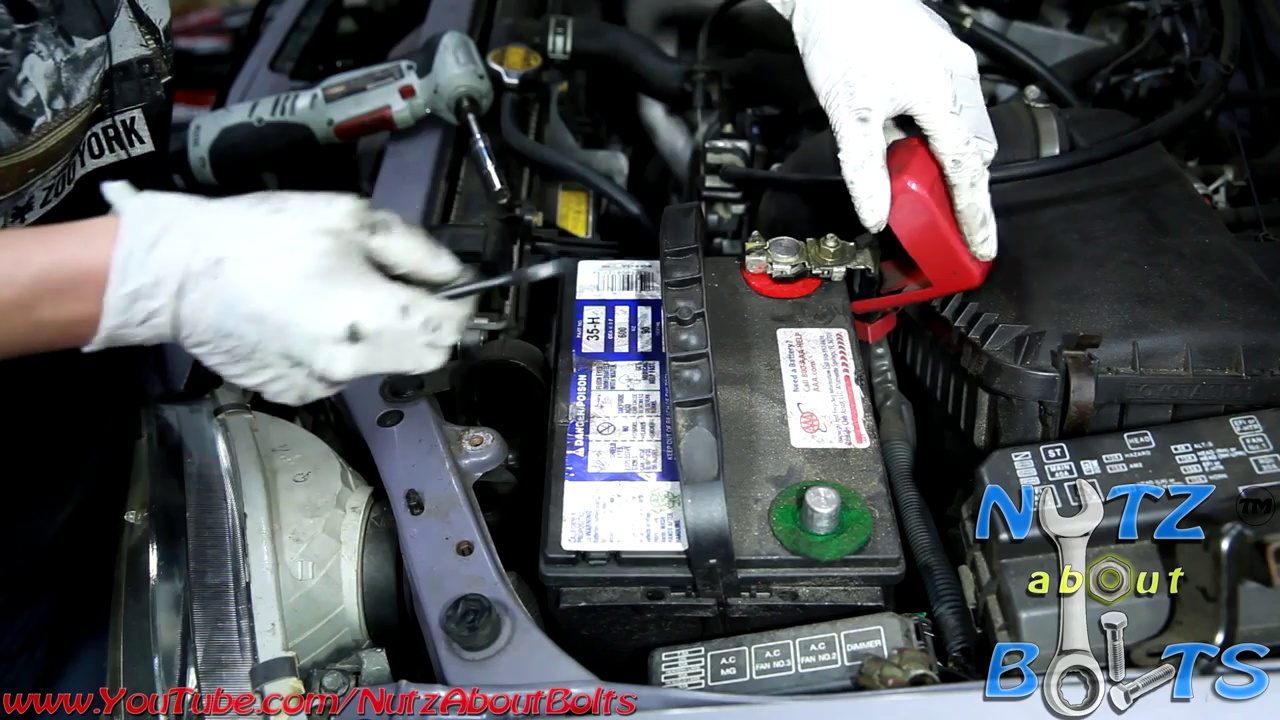battery: (537, 205, 943, 606)
neg_disconnected: (744, 444, 896, 575)
pos_connected: (720, 210, 952, 320)
pos_touched: (724, 106, 1005, 327)
